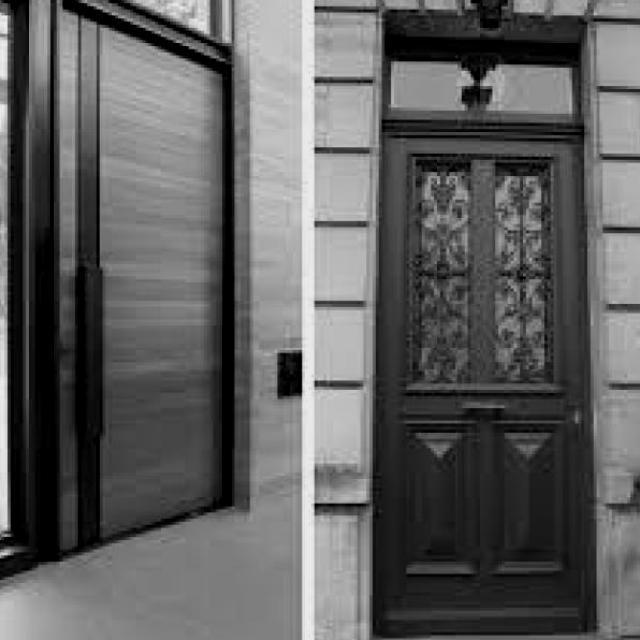door: (372, 126, 591, 635), (50, 3, 246, 530)
